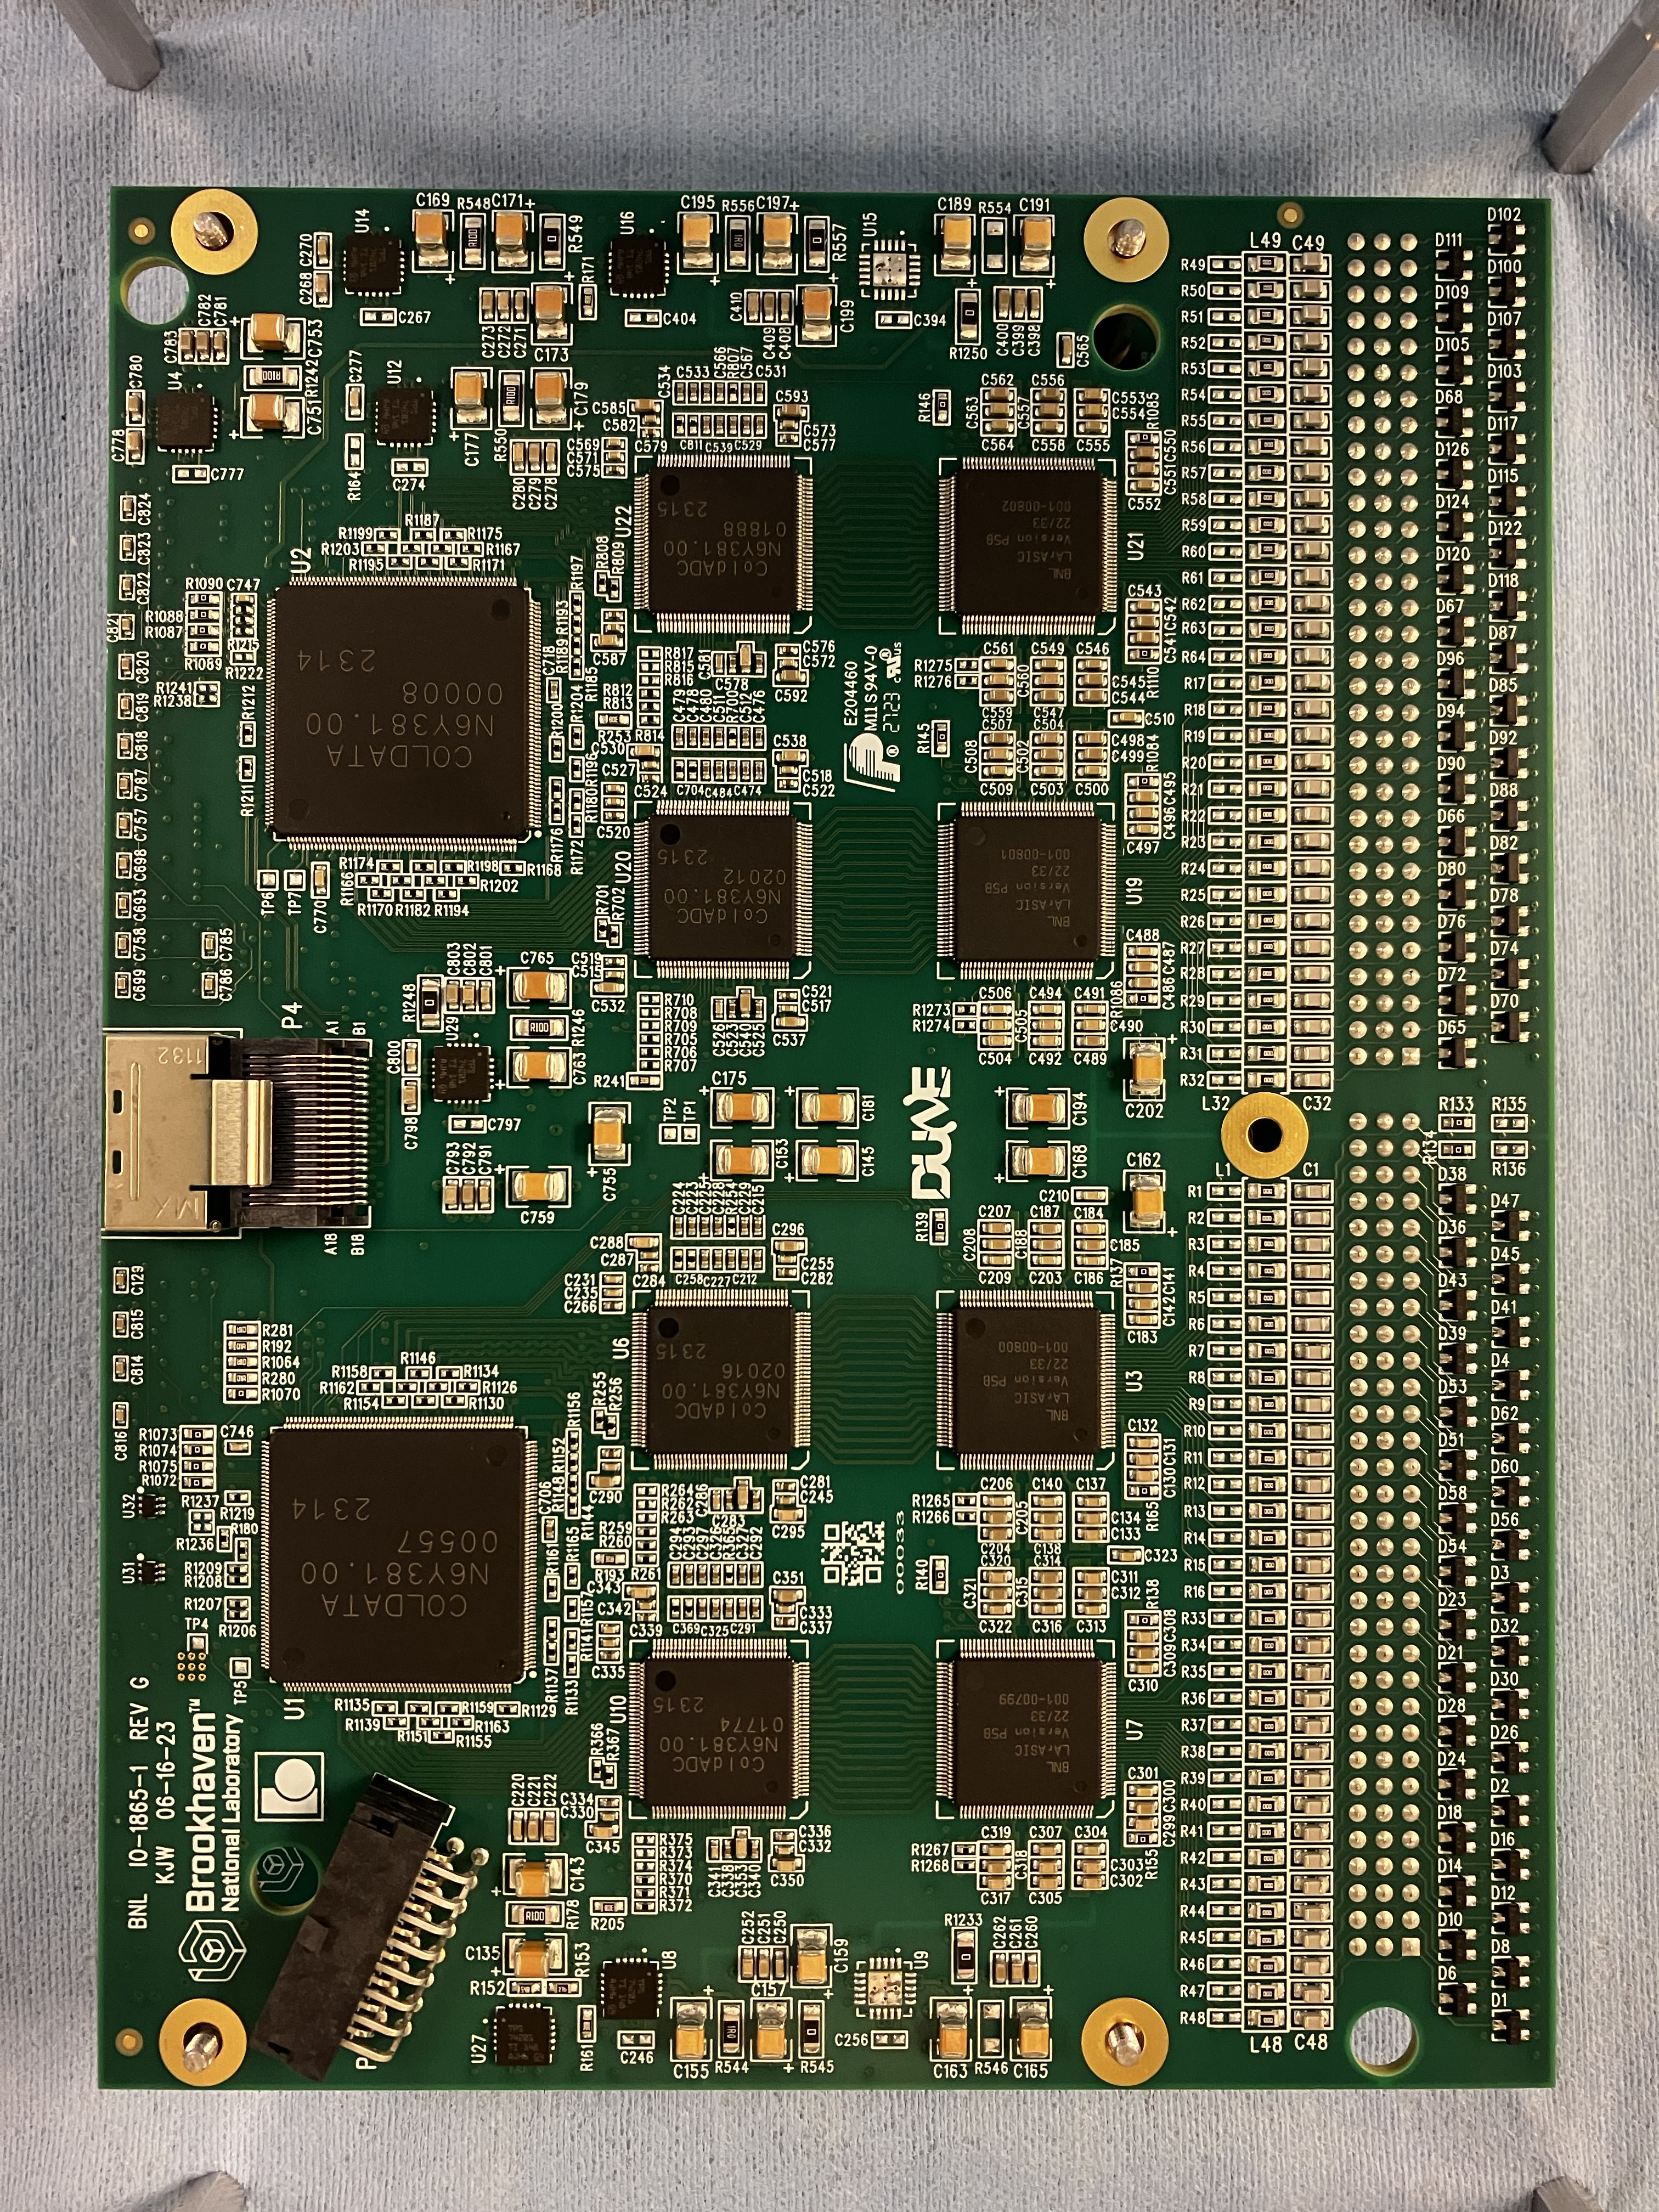chip: (268, 1430, 521, 1686), (275, 585, 528, 841), (955, 472, 1103, 617), (647, 817, 795, 961), (953, 819, 1101, 963), (647, 1308, 795, 1453), (953, 1308, 1101, 1453), (650, 469, 796, 613), (643, 1658, 789, 1803), (953, 1658, 1100, 1803)
